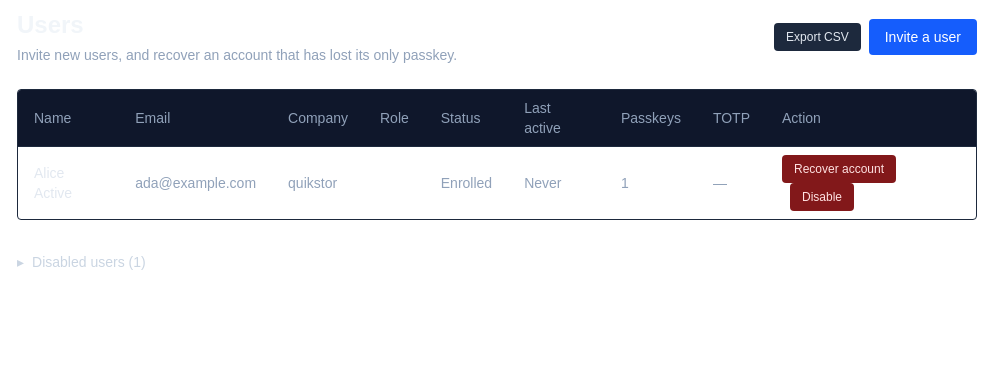
Users page > disabled users › expands to show the disabled users, with Reactivate available, and collapses again
Click the button "▸ Disabled users (1)". click: {"x": 81, "y": 262}
box: [17,252,146,272]
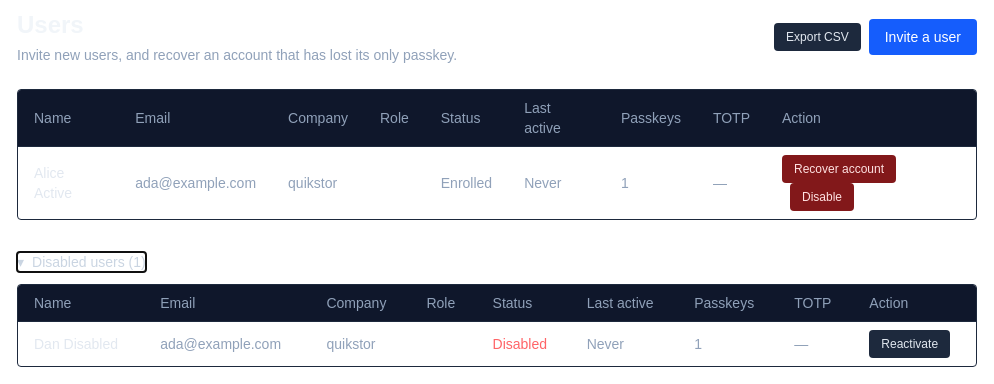
Now the text "Dan Disabled" is shown, box [18,322,144,366]
Now the button "Reactivate" is shown, box [869,330,950,358]
Click the button "▾ Disabled users (1)". click: {"x": 81, "y": 262}
box: [17,252,146,272]
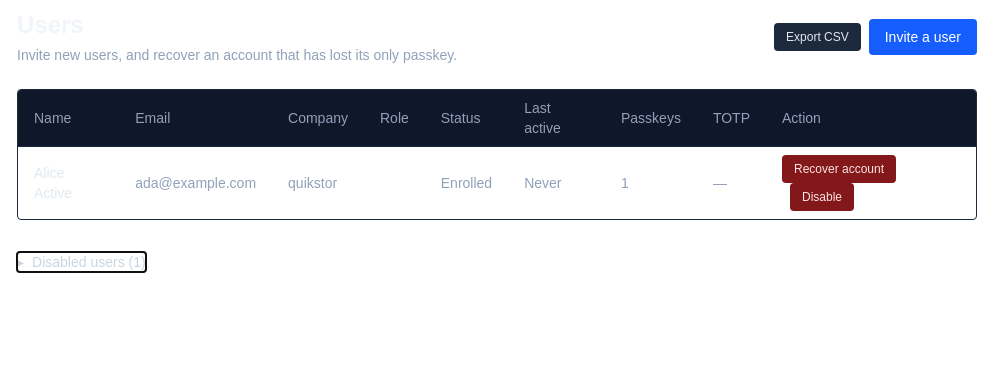
Now the text "Dan Disabled" is gone
